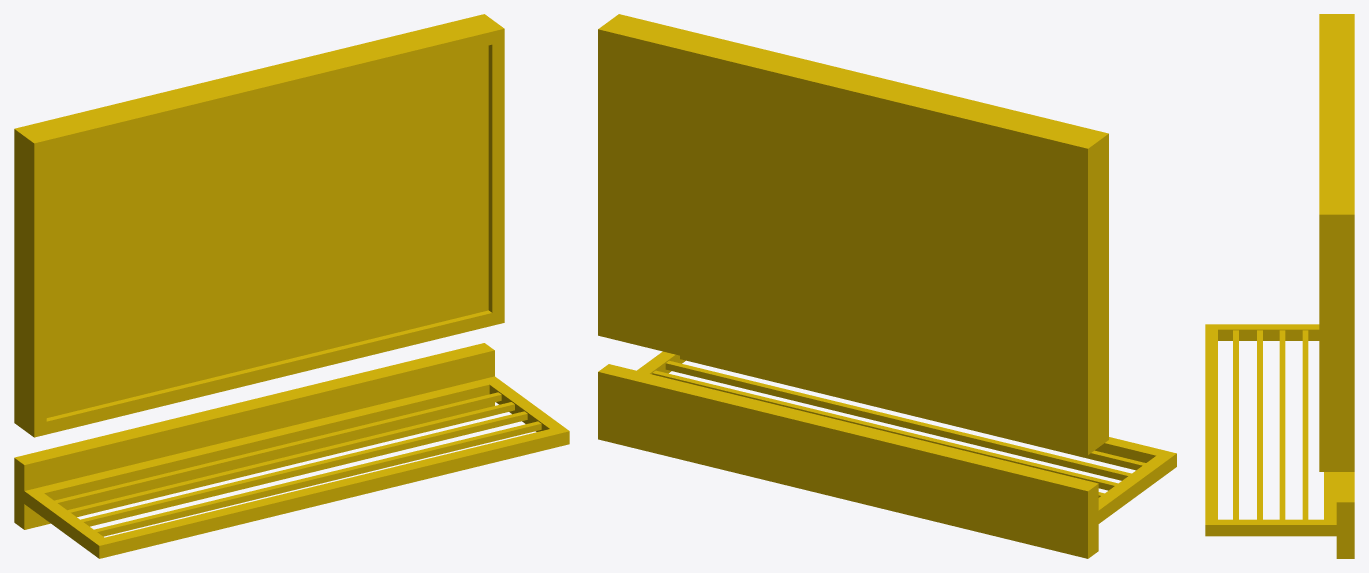
Rendered from MESH_Billboard_Pack.fbx.
3 views of the same model, side by side, from view 1: azimuth 30°, elevation 25°; view 2: azimuth 150°, elevation 25°; view 3: azimuth 270°, elevation 25° (orthographic). The views are drawn at different scales.
Parts seen in each view (by area): view 1: MESH_BillboardSignage, MESH_Billboard1; view 2: MESH_BillboardSignage, MESH_Billboard1; view 3: MESH_BillboardSignage, MESH_Billboard1.
Boxes of the visible parts, x1,y1,x2,y2 form: MESH_BillboardSignage: [14, 14, 504, 437]; MESH_Billboard1: [14, 343, 569, 558]; MESH_BillboardSignage: [598, 14, 1108, 454]; MESH_Billboard1: [598, 351, 1176, 558]; MESH_BillboardSignage: [1319, 14, 1354, 471]; MESH_Billboard1: [1205, 324, 1354, 558].
Bounding box in the file's own units: 3.17 × 2.53 × 0.9943.
